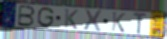B: (17, 5, 37, 28)
G: (36, 6, 55, 29)
K: (63, 8, 80, 31), (111, 11, 127, 34)
T: (132, 11, 148, 35)
X: (82, 8, 103, 32)
